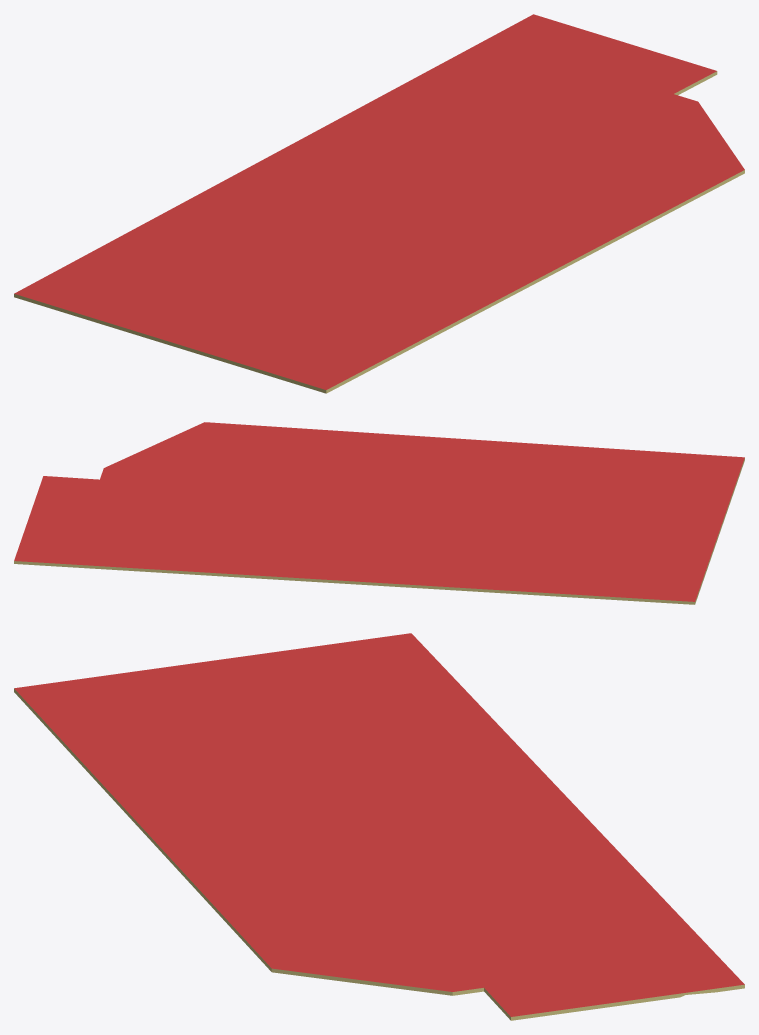
The picture shows the model from 3 angles, top to bottom: view 1: azimuth 30°, elevation 25°; view 2: azimuth 150°, elevation 25°; view 3: azimuth 270°, elevation 25°; orthographic projection. The views are drawn at different scales.
Bounding box in the file's own units: 22.06 × 17.49 × 0.375.
